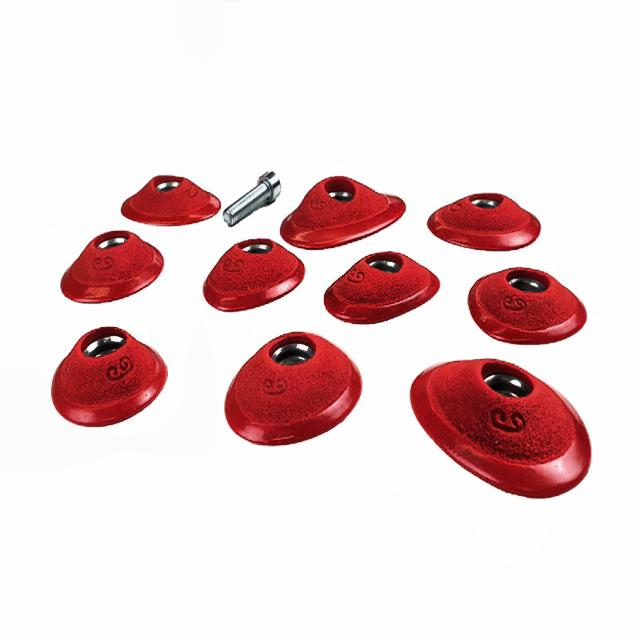Hold: (408, 358, 592, 500), (221, 331, 363, 445), (51, 324, 171, 428), (467, 268, 586, 346), (280, 179, 408, 251), (324, 252, 440, 324), (60, 229, 163, 304), (204, 240, 306, 312), (427, 190, 542, 250), (118, 171, 223, 227)
